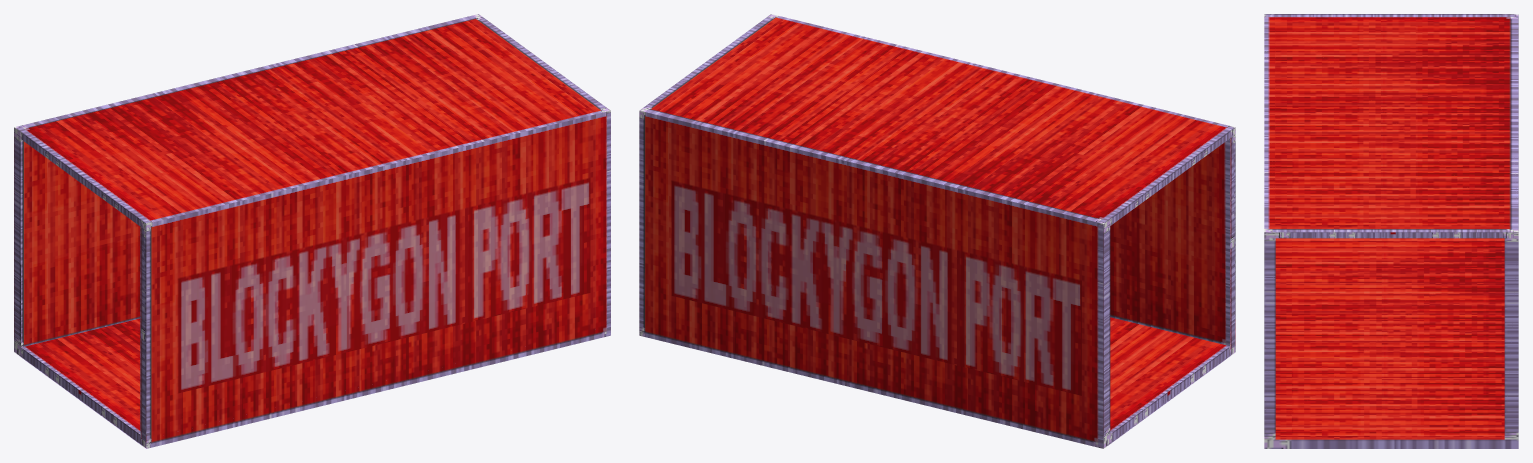
File: BLOCKYGON_RED CONTAINER(OPEN).fbx
3 renders of one model, left to right at view 1: azimuth 30°, elevation 25°; view 2: azimuth 150°, elevation 25°; view 3: azimuth 270°, elevation 25°, orthographic. The views are drawn at different scales.
Parts seen in each view (by area): view 1: BLOCKYGON_RED_CONTAINER_OPEN_; view 2: BLOCKYGON_RED_CONTAINER_OPEN_; view 3: BLOCKYGON_RED_CONTAINER_OPEN_.
Boxes of the visible parts, x1,y1,x2,y2 form: BLOCKYGON_RED_CONTAINER_OPEN_: (14,14,610,448); BLOCKYGON_RED_CONTAINER_OPEN_: (639,14,1235,448); BLOCKYGON_RED_CONTAINER_OPEN_: (1264,14,1518,448).
Size of the model in its own units: 441 by 204 by 217.
